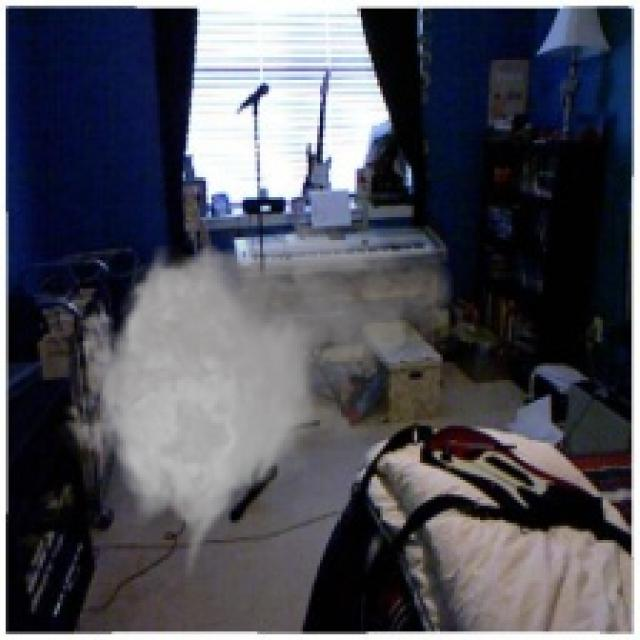smoke: (51, 206, 460, 580)
